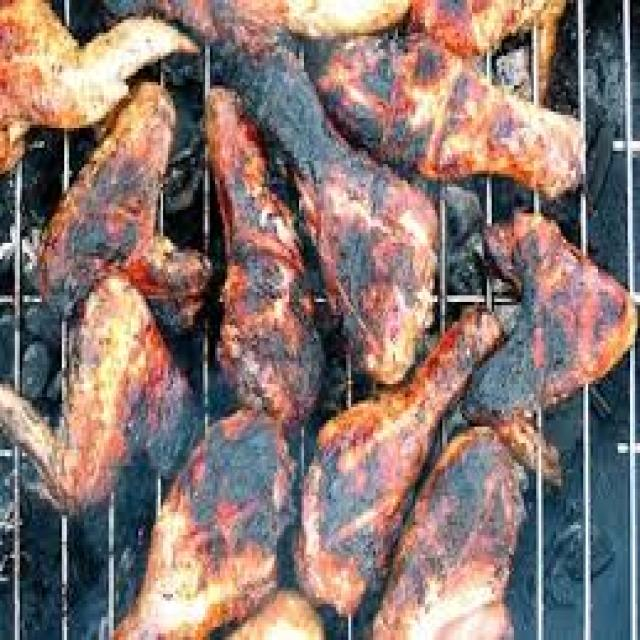Frango: (10, 6, 635, 636)
